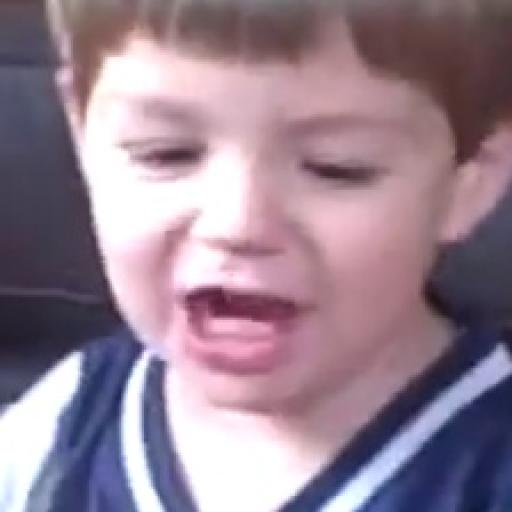Autism: (77, 5, 512, 414)
